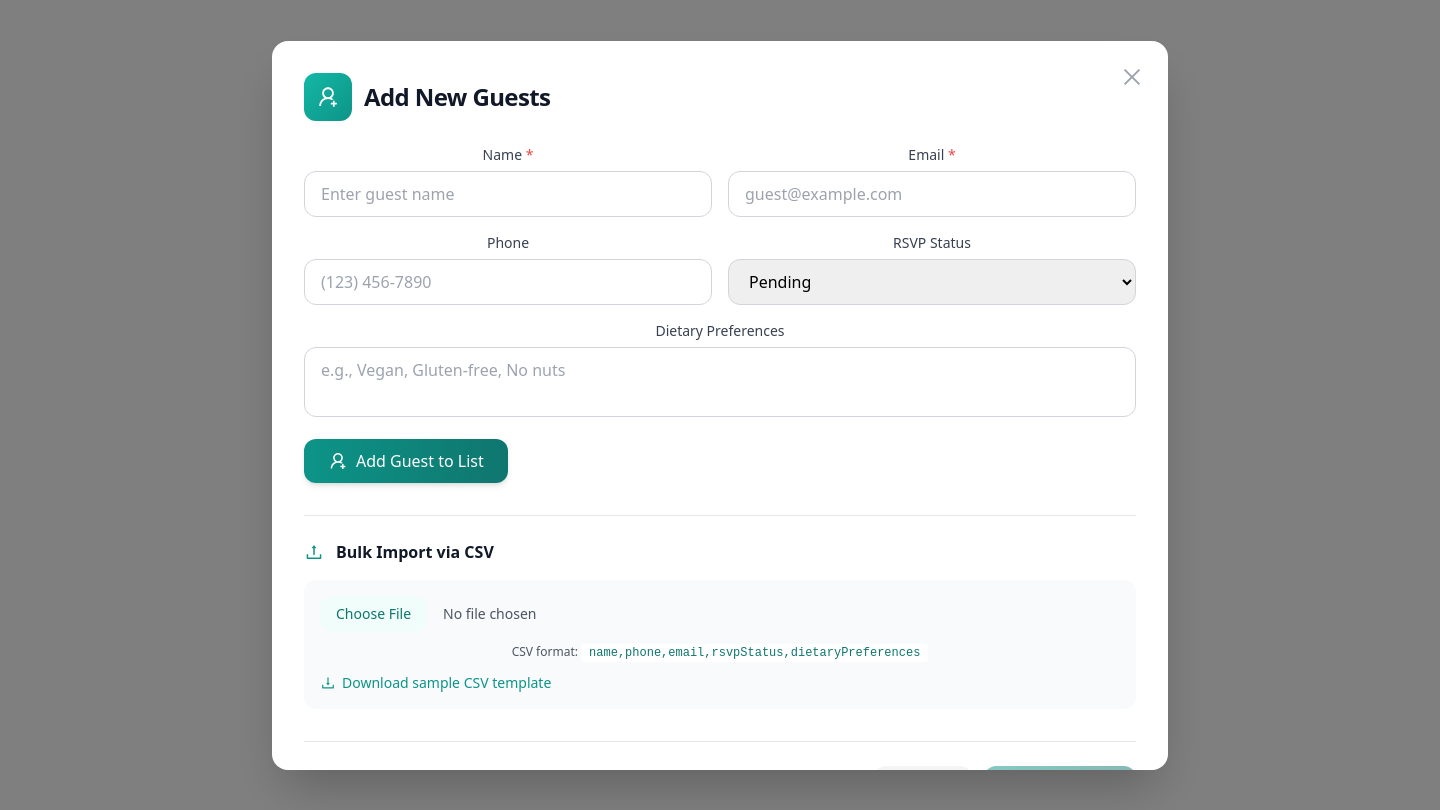
Test: AddGuestsModal › shows error if save fails
Type "Charlie" into the field with placeholder "Enter guest name" at (508, 194), box [304,170,712,216]
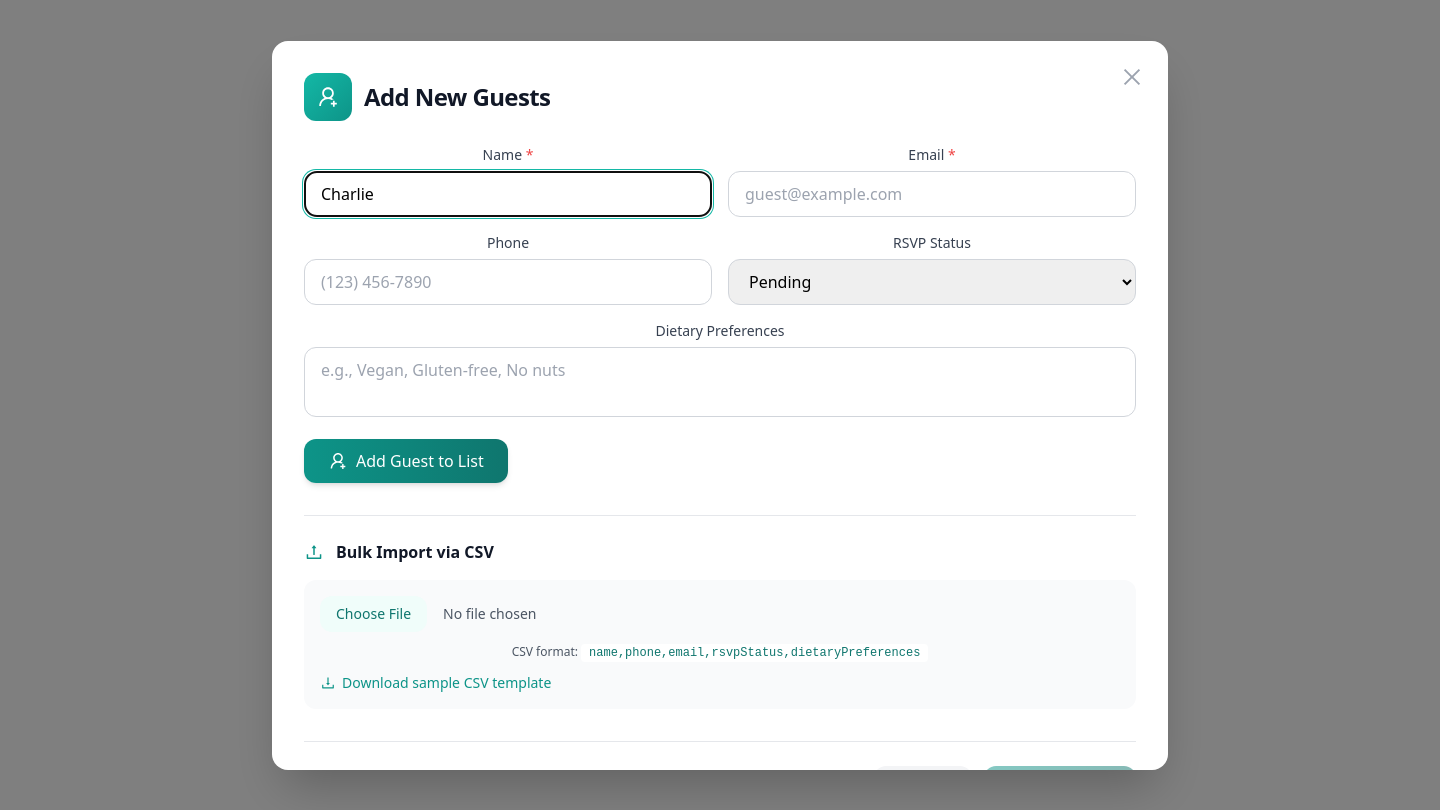
Type "charlie@email.com" into the field with placeholder "guest@example.com" at (932, 194), box [728,170,1136,216]
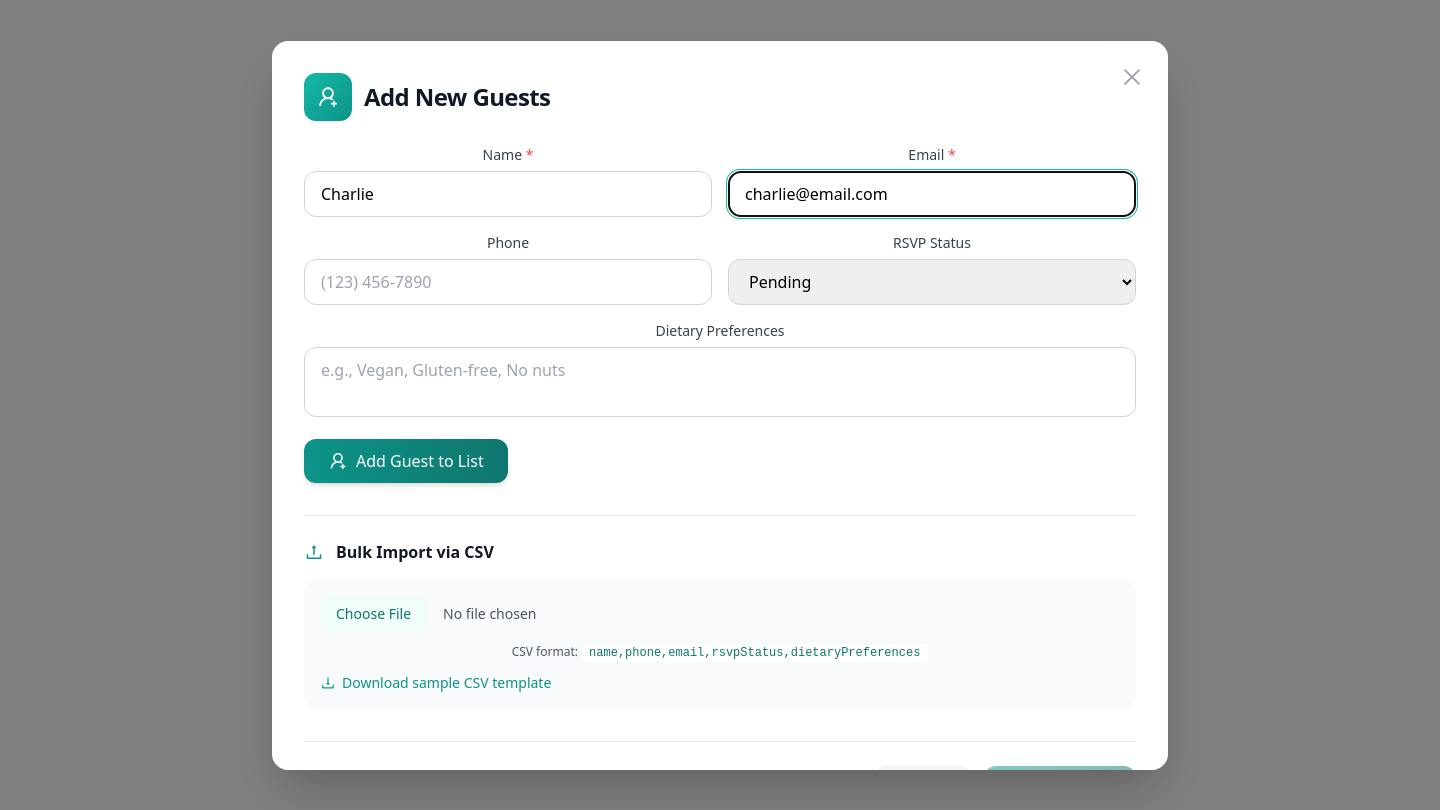
Click the button "Add Guest to List" at (406, 460), box [304,438,508,482]
(page scrolled)
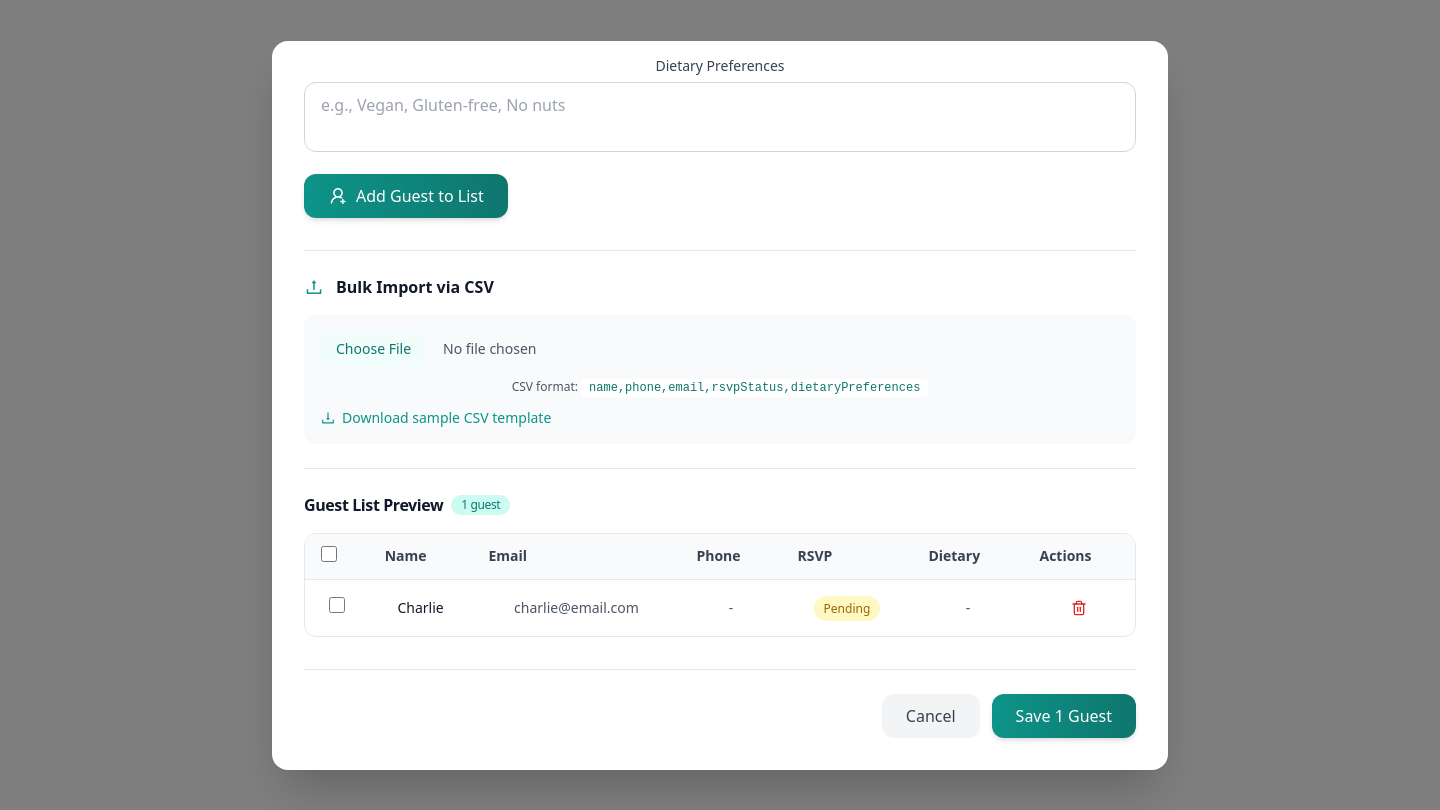
Click the button "Save 1 Guest" at (1064, 716), box [992,694,1136,738]
(page scrolled)
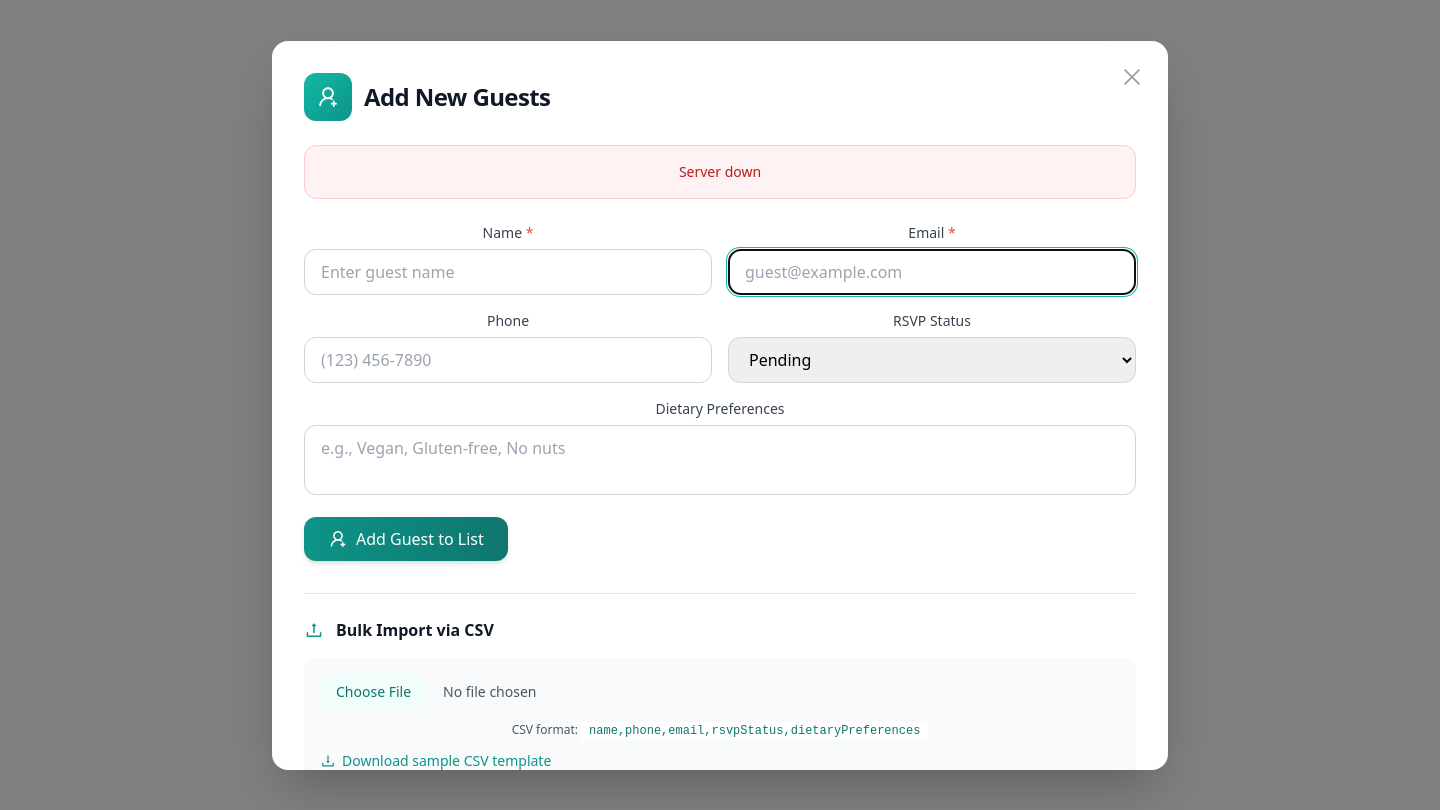
Result: the text "Server down" is shown at [304,144,1136,198]
